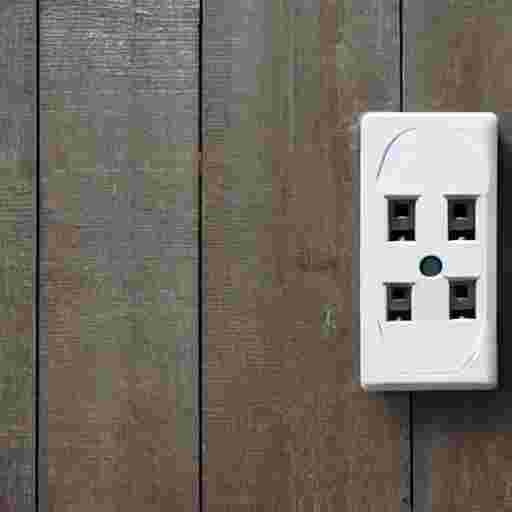power outlet: (355, 112, 497, 389)
